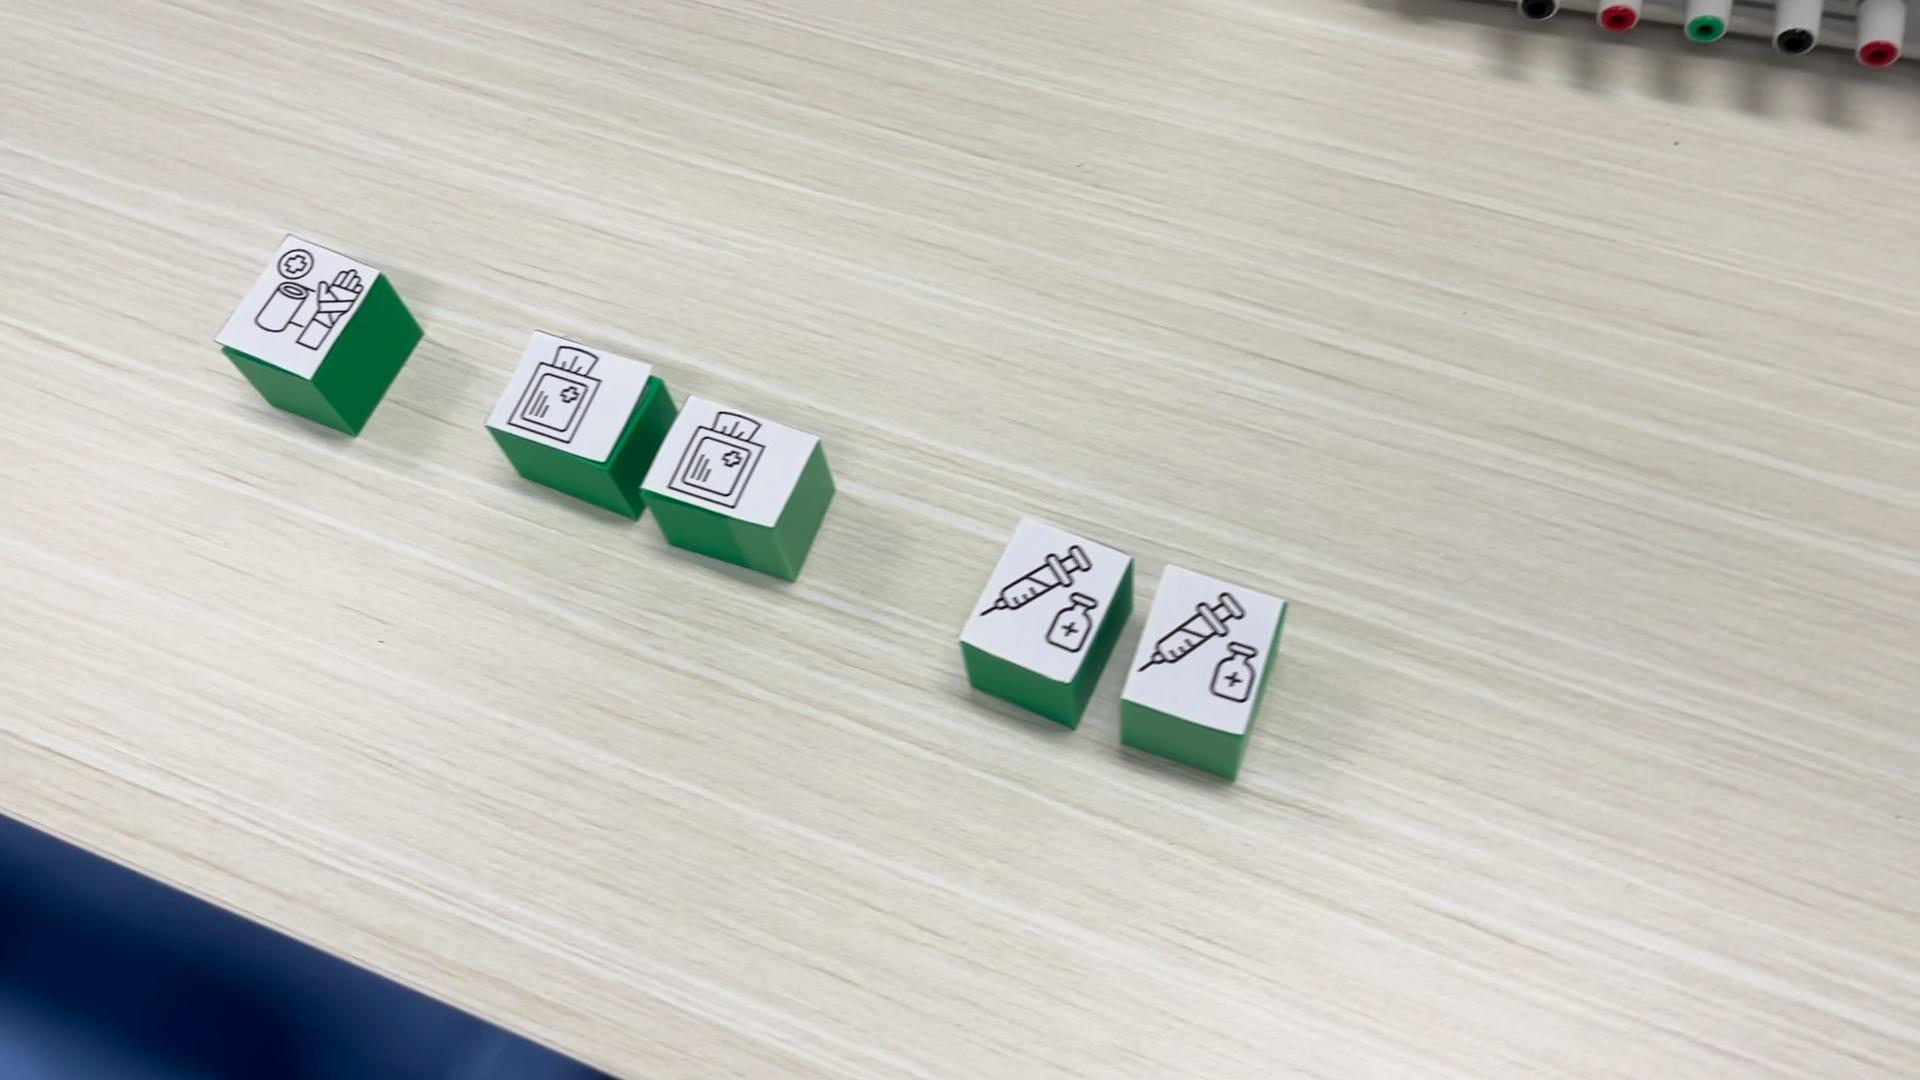Bandages: (215, 233, 427, 436)
Gauze: (642, 393, 839, 587), (485, 330, 674, 526)
antiseptic cream: (956, 512, 1134, 732), (1124, 562, 1290, 790)
